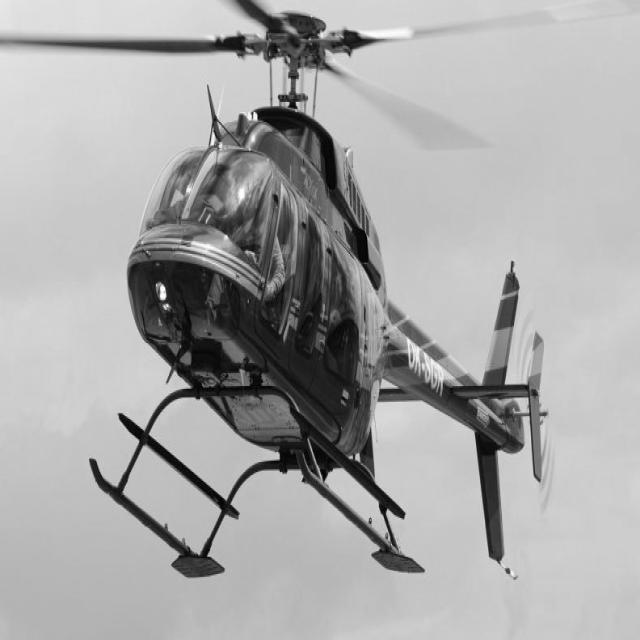helicopter: (1, 1, 584, 585)
